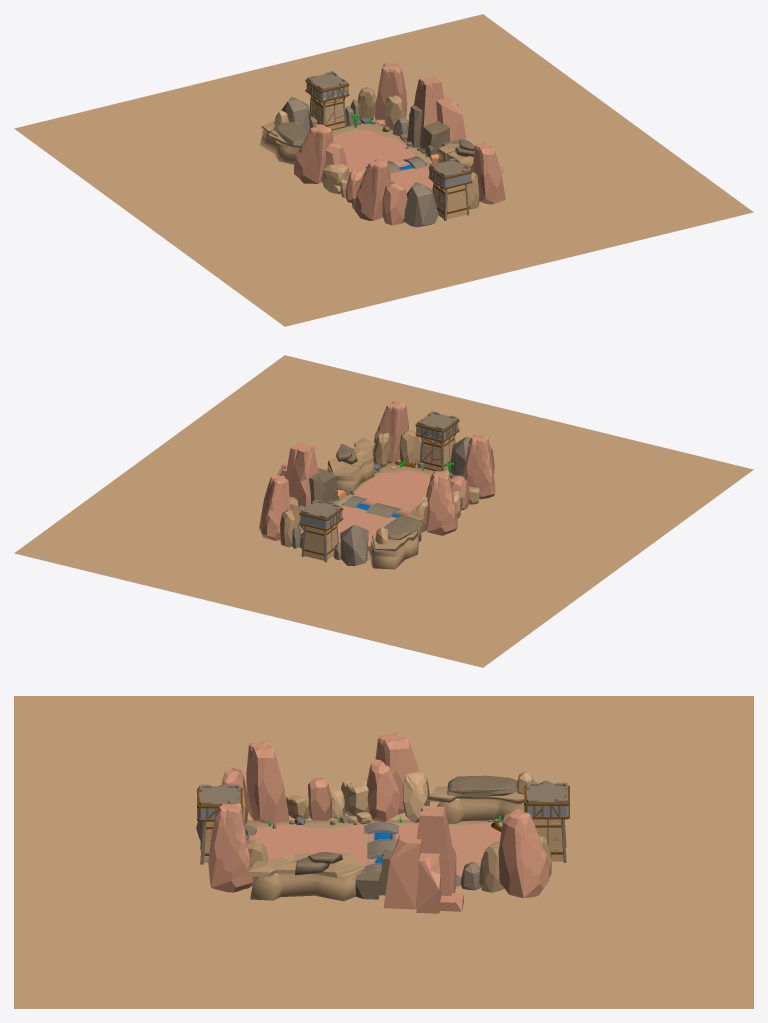
Rendered from env_canyon.fbx.
3 views of the same model, one above another, from view 1: azimuth 30°, elevation 25°; view 2: azimuth 150°, elevation 25°; view 3: azimuth 270°, elevation 25° (orthographic). The views are drawn at different scales.
Visible parts, largest first — view 1: env, Rock15, rock_02, mapa, rock_07, rock_12, turn1, turn, rock_10, polySurface36, Rock19, polySurface35 (+1 smaller); view 2: env, mapa, Rock15, rock_02, rock_10, polySurface36, rock_07, rock_12, turn, turn1, polySurface35, Rock19 (+1 smaller); view 3: env, rock_02, rock_07, Rock15, mapa, polySurface35, rock_12, polySurface36, rock_10, turn, turn1, nisip.
Boxes of the visible parts, box(x1,y1,x2,y2) form: env: box(14, 14, 753, 326); Rock15: box(340, 158, 438, 227); rock_02: box(407, 75, 466, 157); mapa: box(333, 120, 432, 193); rock_07: box(294, 124, 349, 194); rock_12: box(357, 63, 407, 130); turn1: box(428, 158, 472, 220); turn: box(305, 71, 349, 130); rock_10: box(467, 142, 505, 209); polySurface36: box(259, 110, 308, 164); Rock19: box(281, 96, 359, 130); polySurface35: box(437, 139, 504, 173); env: box(14, 355, 753, 667); mapa: box(300, 471, 430, 559); Rock15: box(450, 435, 495, 510); rock_02: box(276, 442, 337, 507); rock_10: box(373, 400, 420, 469); polySurface36: box(368, 514, 422, 569); rock_07: box(410, 470, 461, 535); rock_12: box(259, 475, 300, 547); turn: box(299, 499, 343, 562); turn1: box(415, 411, 459, 471); polySurface35: box(327, 438, 375, 492); Rock19: box(292, 524, 368, 565); env: box(14, 696, 753, 1008); rock_02: box(355, 806, 463, 913); rock_07: box(341, 732, 429, 824); Rock15: box(196, 741, 345, 840); mapa: box(250, 824, 502, 876); polySurface35: box(246, 852, 364, 901); rock_12: box(479, 808, 551, 898); polySurface36: box(427, 771, 536, 824); rock_10: box(208, 803, 267, 892); turn: box(524, 782, 569, 862); turn1: box(197, 784, 242, 864); nisip: box(245, 820, 502, 840).
Size of the model in its own units: 61.66 by 11.66 by 61.66.
